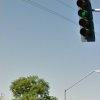Traffic light: (67, 1, 100, 65)
